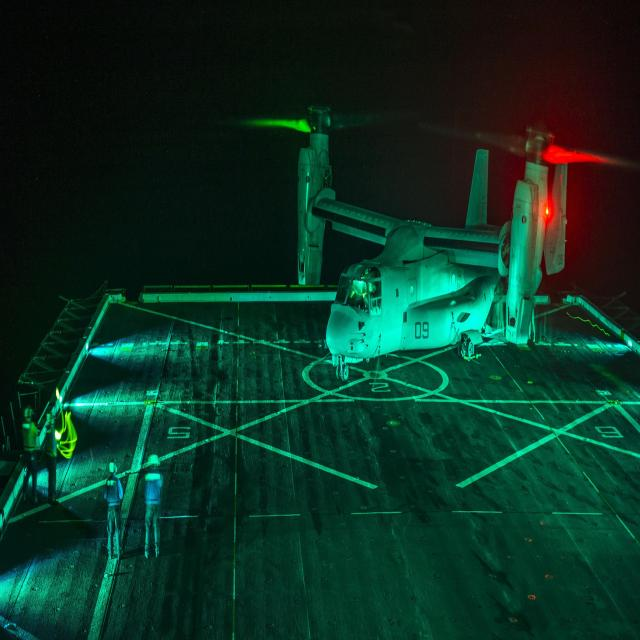MIL_Plane: (212, 102, 640, 380)
